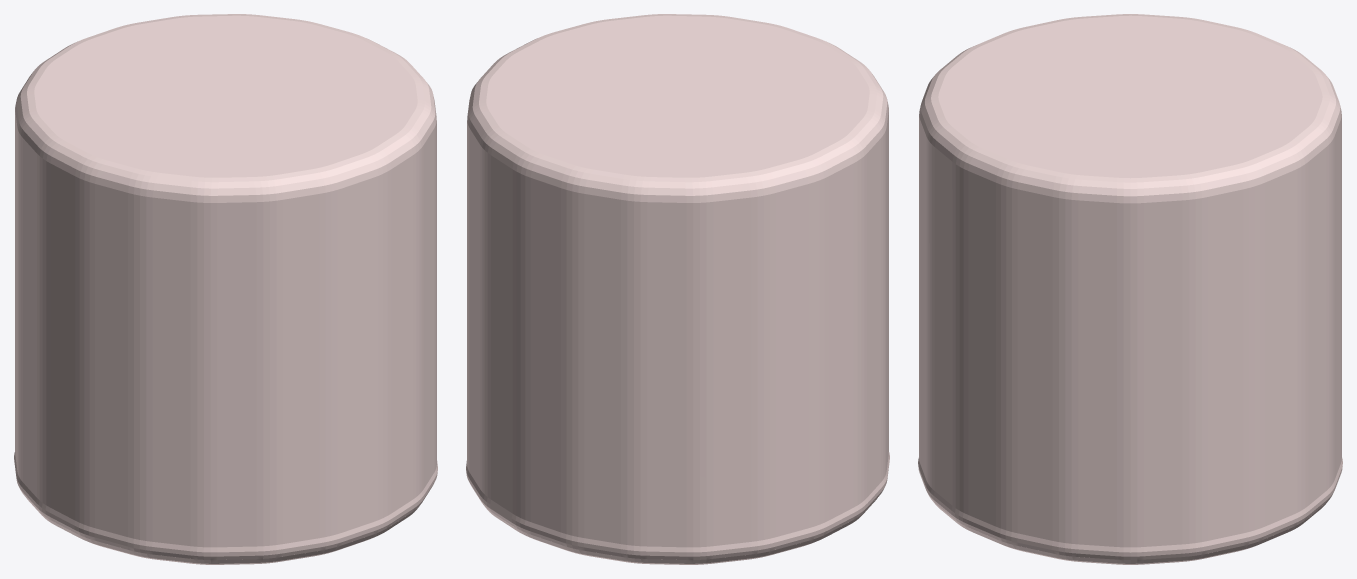
The model's file is TarroSolo.obj.
3 views of the same model, side by side, from view 1: azimuth 30°, elevation 25°; view 2: azimuth 150°, elevation 25°; view 3: azimuth 270°, elevation 25° (orthographic).
Visible parts, largest first — view 1: Vitrina:Vitrina7:CajaRegistradora:polySurface1 Vitrina:Vitrina7:; view 2: Vitrina:Vitrina7:CajaRegistradora:polySurface1 Vitrina:Vitrina7:; view 3: Vitrina:Vitrina7:CajaRegistradora:polySurface1 Vitrina:Vitrina7:.
Boxes of the visible parts, x1,y1,x2,y2 form: Vitrina:Vitrina7:CajaRegistradora:polySurface1 Vitrina:Vitrina7:: (14,14,437,564); Vitrina:Vitrina7:CajaRegistradora:polySurface1 Vitrina:Vitrina7:: (466,14,889,564); Vitrina:Vitrina7:CajaRegistradora:polySurface1 Vitrina:Vitrina7:: (918,14,1342,564).
Bounding box in the file's own units: 0.2962 × 0.2961 × 0.2962.
1 material, 1 textured.
